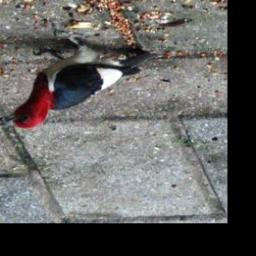Woodpecker: (0, 25, 161, 135)
